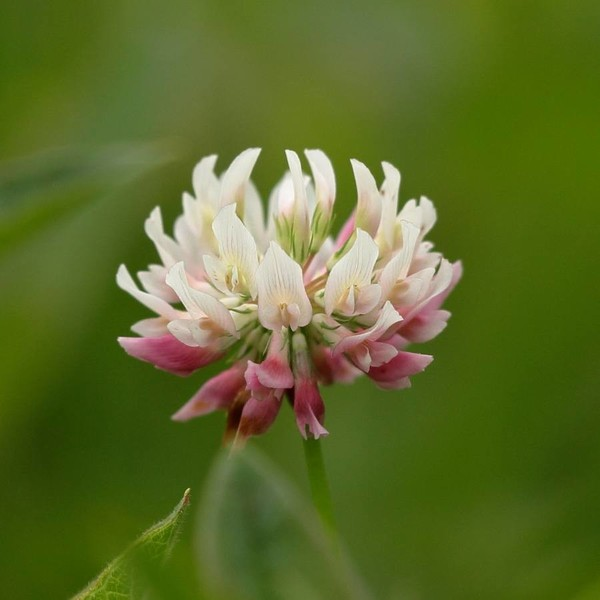obstacle: (99, 135, 461, 560)
